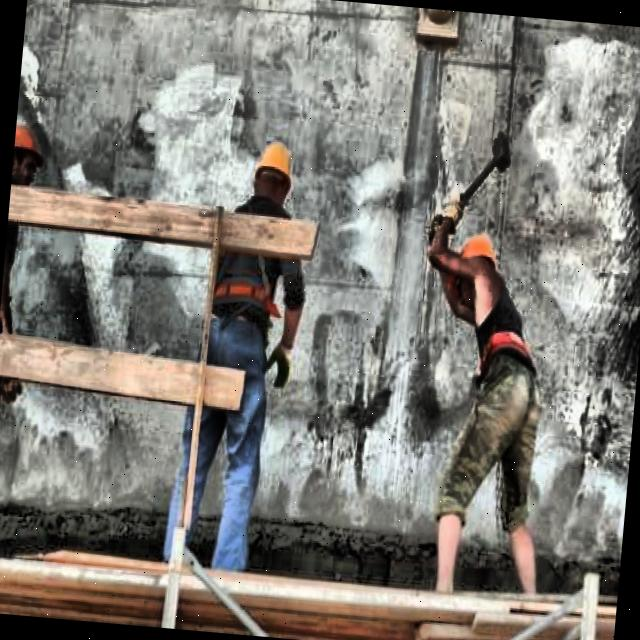helmet: (248, 134, 298, 213), (452, 229, 498, 313), (12, 113, 50, 194)
